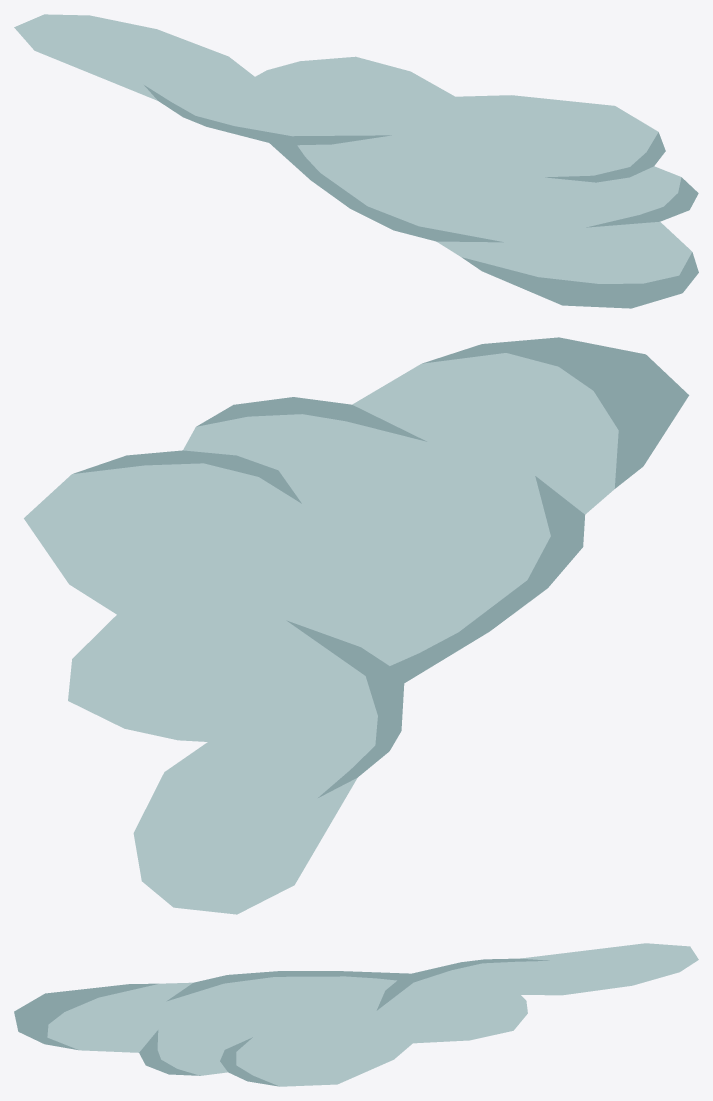
Rendered from Cloud_03.fbx.
The picture shows the model from 3 angles, top to bottom: view 1: azimuth 30°, elevation 25°; view 2: azimuth 150°, elevation 25°; view 3: azimuth 270°, elevation 25°; orthographic projection. The views are drawn at different scales.
Parts seen in each view (by area): view 1: Cloud_03; view 2: Cloud_03; view 3: Cloud_03.
Part boxes in pixels (x1,y1,x2,y2): Cloud_03: [14, 14, 698, 308]; Cloud_03: [24, 337, 689, 914]; Cloud_03: [14, 943, 698, 1086].
Size of the model in its own units: 164 by 0.000519 by 331.
Materials: 1 (1 with a texture image).
